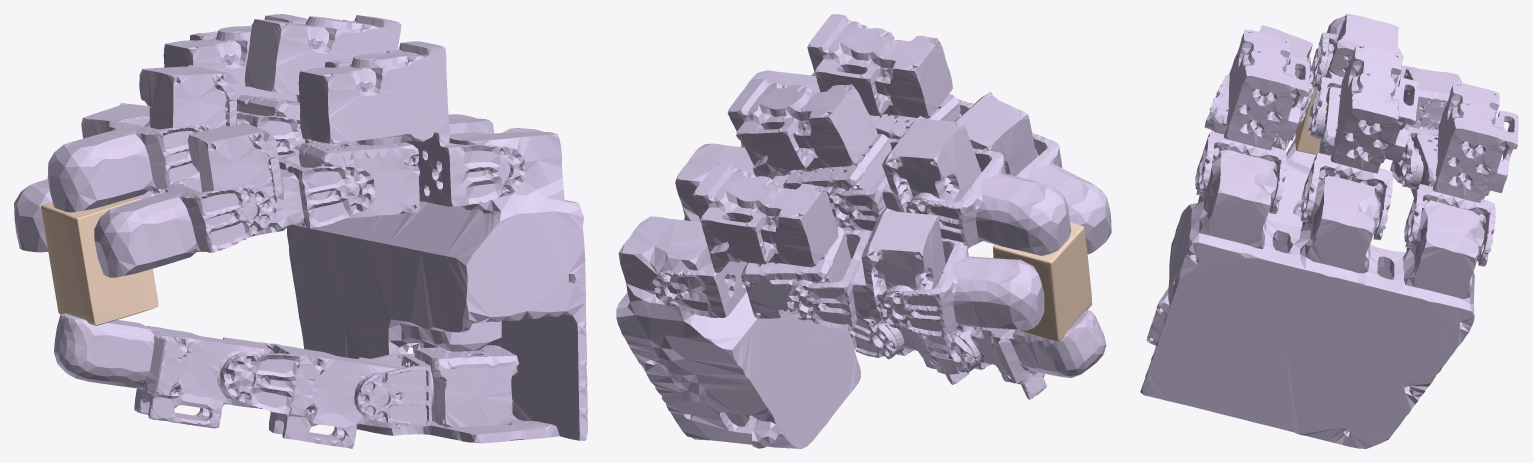
Rendered from 71c6c6abed2b12-closed.glb.
3 views of the same model, side by side, from view 1: azimuth 30°, elevation 25°; view 2: azimuth 150°, elevation 25°; view 3: azimuth 270°, elevation 25° (orthographic). The views are drawn at different scales.
Visible parts, largest first — view 1: LEAP_hand, world; view 2: LEAP_hand, world; view 3: LEAP_hand, world.
Boxes of the visible parts, x1,y1,x2,y2 form: LEAP_hand: (14,14,587,448); world: (41,197,158,325); LEAP_hand: (616,14,1111,448); world: (993,222,1092,341); LEAP_hand: (1140,14,1518,448); world: (1295,49,1320,154).
Size of the model in its own units: 0.1716 by 0.1601 by 0.1581.
